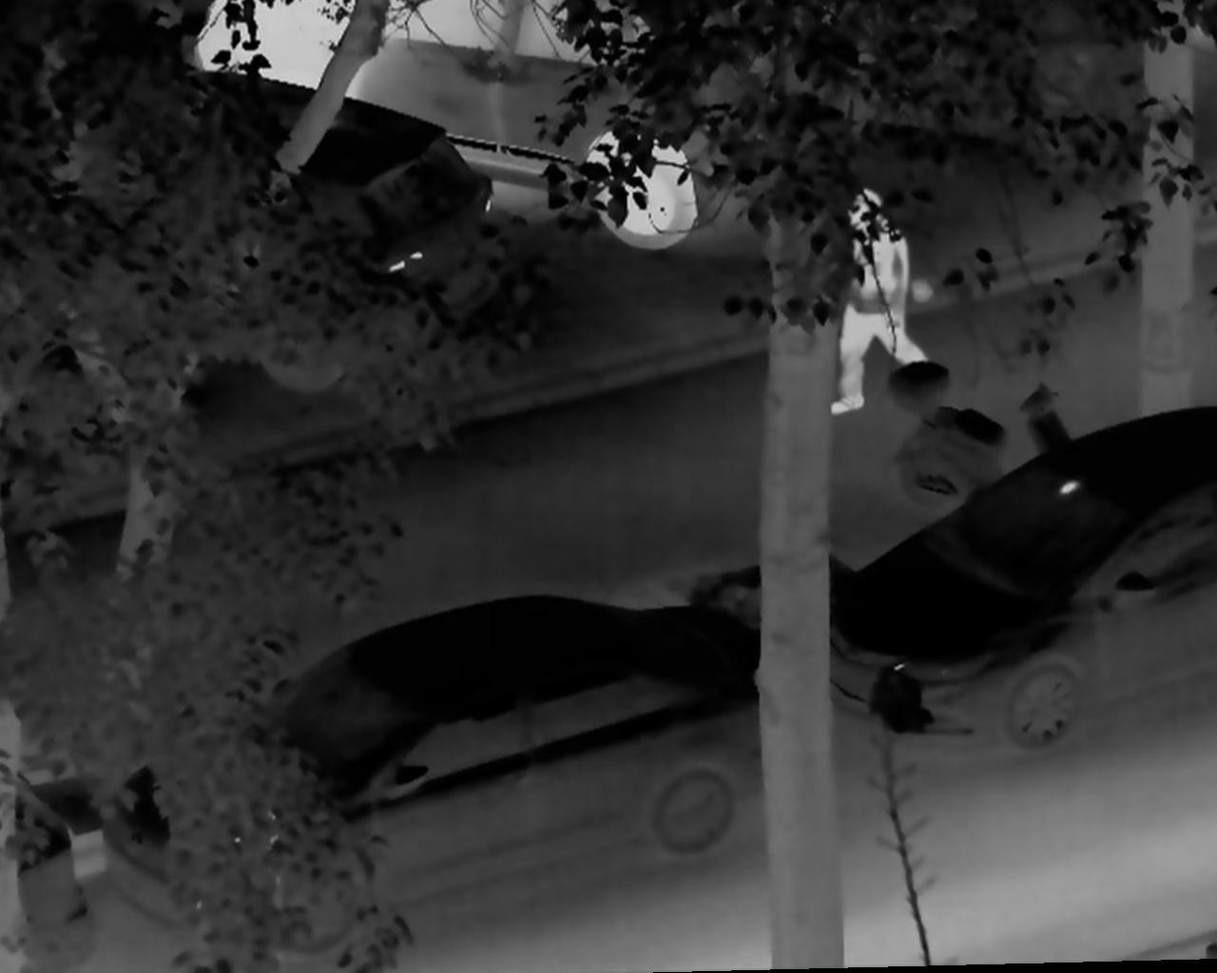person: (826, 188, 931, 421)
